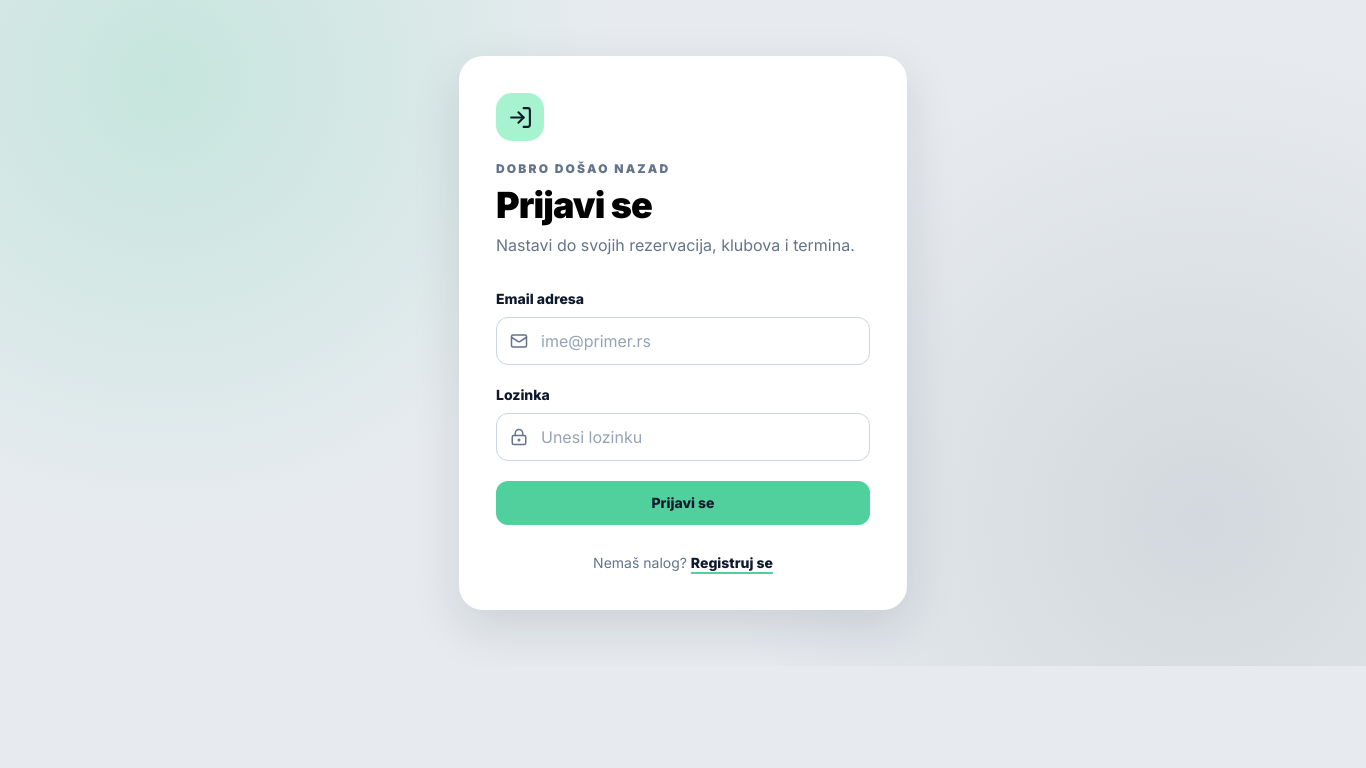
Test: LoginPage › shows Serbian validation errors for an empty form
Step 1. Click the button "Prijavi se" → (683, 503), box [496, 481, 870, 525]
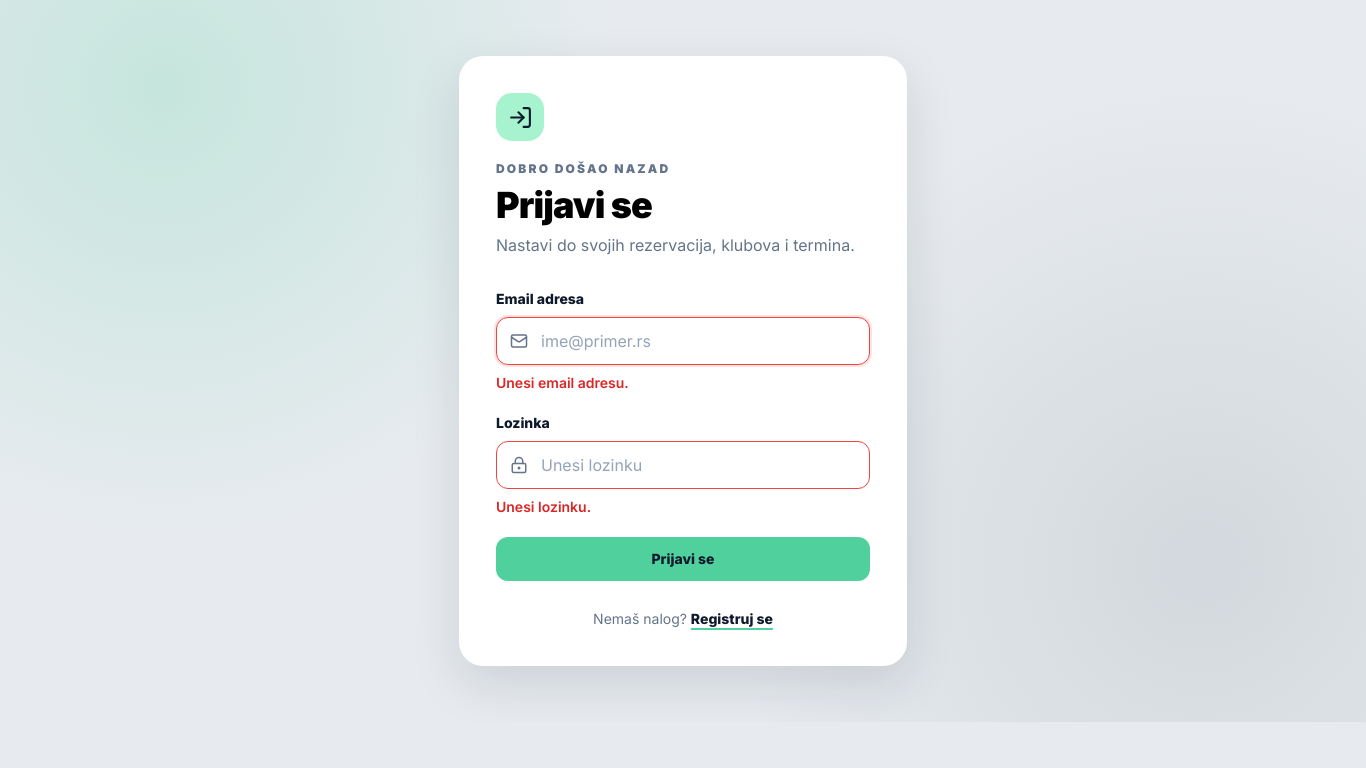
Expected: the text "Unesi email adresu." is shown, [496, 374, 629, 391]
Expected: the text "Unesi lozinku." is shown, [496, 498, 591, 515]
